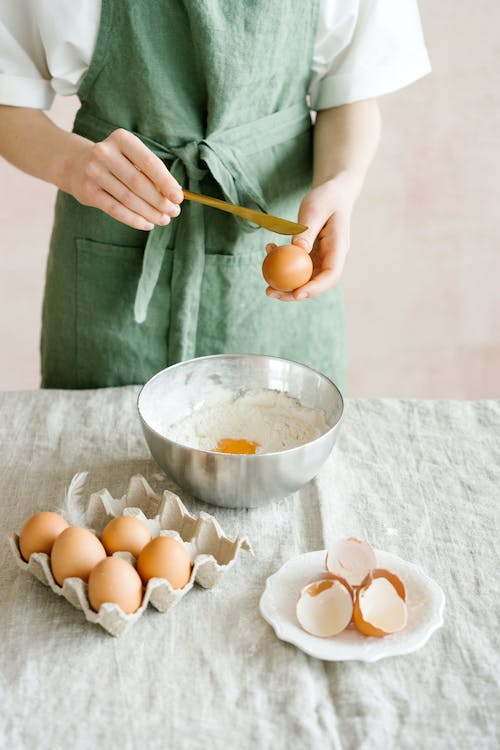knife: (182, 189, 311, 238)
